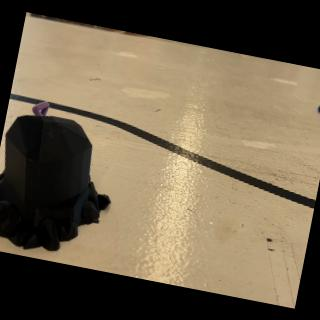teletubby: (32, 101, 49, 116)
